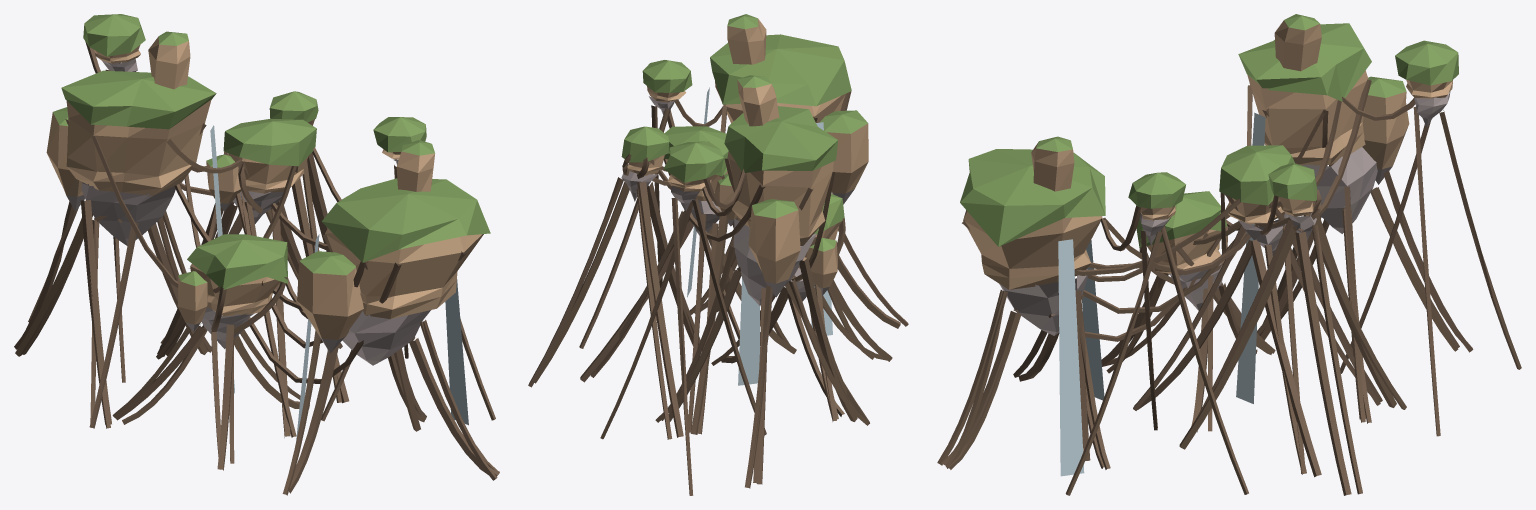
File: wdw-pandora-floating-mountains.glb
3 views of the same model, side by side, from view 1: azimuth 30°, elevation 25°; view 2: azimuth 150°, elevation 25°; view 3: azimuth 270°, elevation 25° (orthographic). The views are drawn at different scales.
Visible parts, largest first — view 1: Pandora's floating mountains; view 2: Pandora's floating mountains; view 3: Pandora's floating mountains.
Boxes of the visible parts, x1=… form: Pandora's floating mountains: x1=14, y1=14, x2=499, y2=495; Pandora's floating mountains: x1=528, y1=14, x2=908, y2=495; Pandora's floating mountains: x1=937, y1=14, x2=1521, y2=495.
Size of the model in its own units: 44.15 by 47.93 by 67.79.
